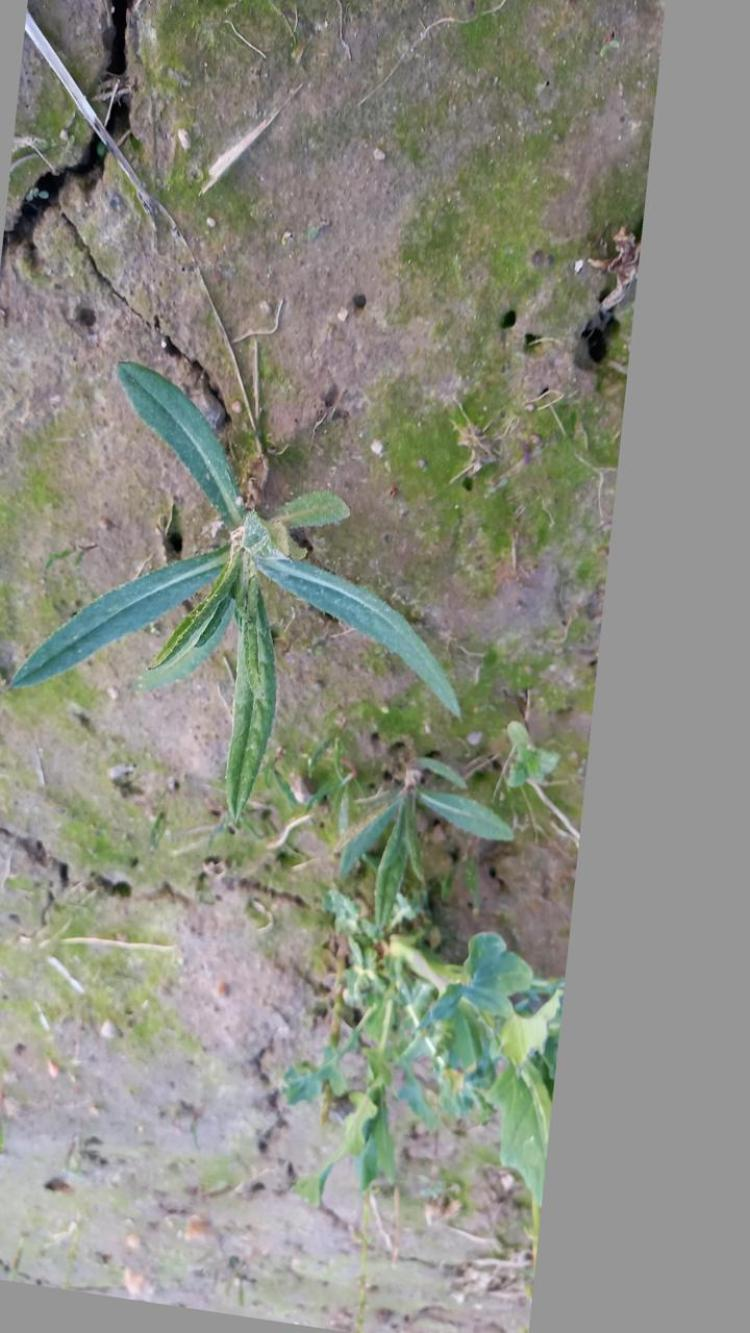osot: (17, 362, 481, 823)
